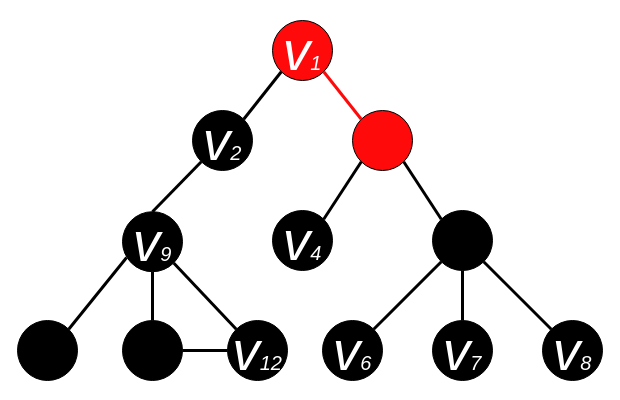
The diagram is 620 pixels wide and 400 high, and some of its shapes have lost their labels. The centre of each missing label's shape, as x and y in pixels:
v 10: the point at 47,350
v 11: the point at 152,350
v 3: the point at 382,140
v 5: the point at 462,240
